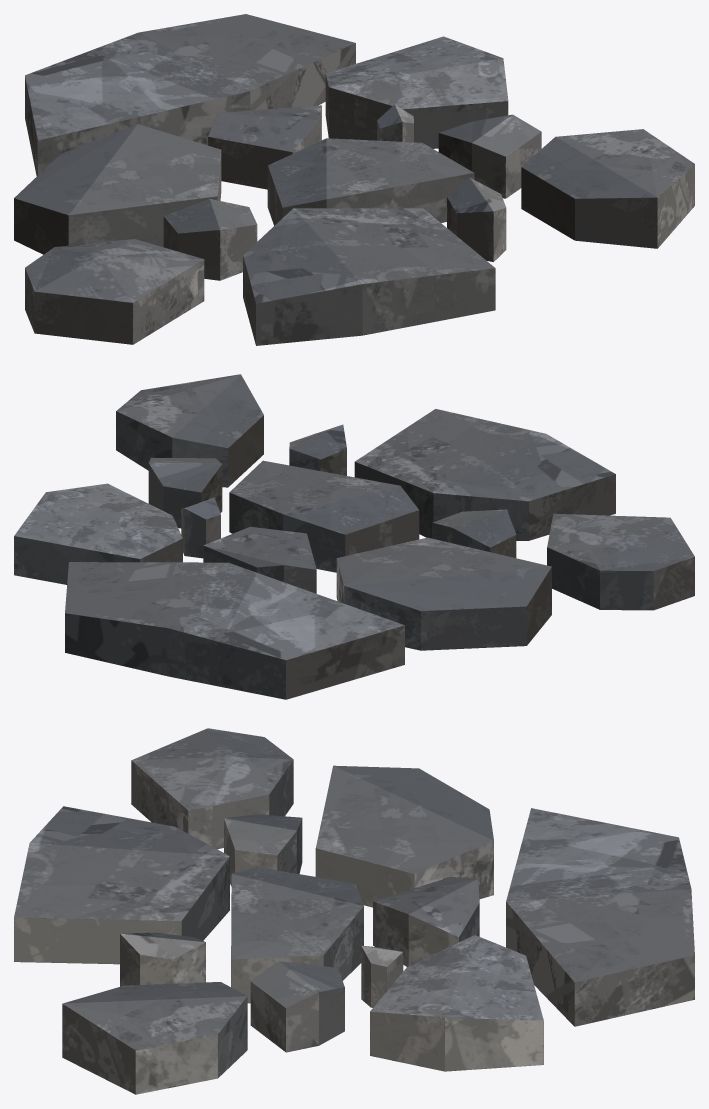
File: Path2.obj
3 renders of one model, top to bottom at view 1: azimuth 30°, elevation 25°; view 2: azimuth 150°, elevation 25°; view 3: azimuth 270°, elevation 25°, orthographic. The views are drawn at different scales.
Visible parts, largest first — view 1: Path2; view 2: Path2; view 3: Path2.
Boxes of the visible parts, <box> form: Path2: <box>14,14,694,345</box>; Path2: <box>14,374,694,699</box>; Path2: <box>14,728,694,1094</box>.
Bounding box in the file's own units: 1.3 × 0.1027 × 1.16.
